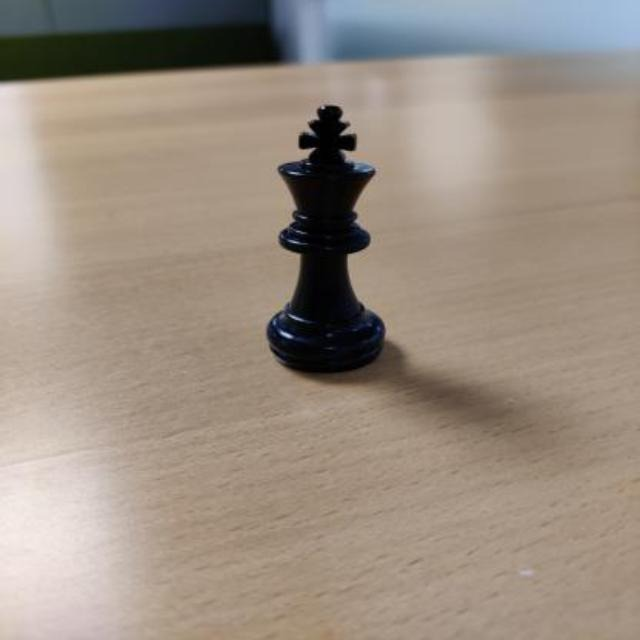black-king: (266, 106, 384, 376)
